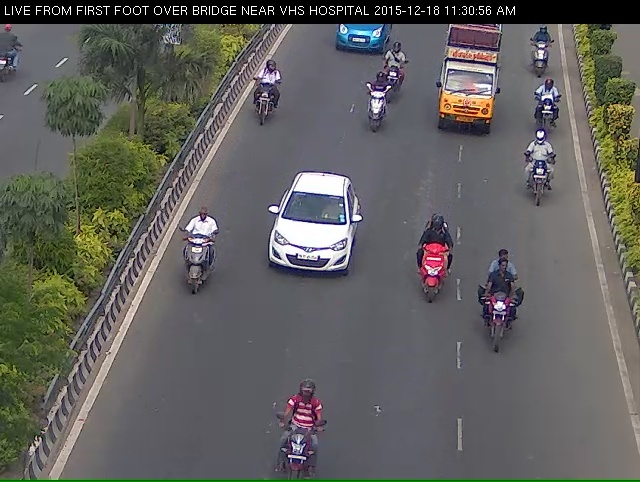Car: (254, 172, 361, 305), (436, 21, 507, 136)
Person: (398, 204, 454, 315), (265, 386, 325, 480), (478, 260, 527, 368), (168, 219, 217, 309), (524, 135, 564, 215), (357, 78, 394, 140), (528, 84, 566, 143), (244, 69, 280, 131), (526, 28, 557, 90), (377, 51, 410, 103)
